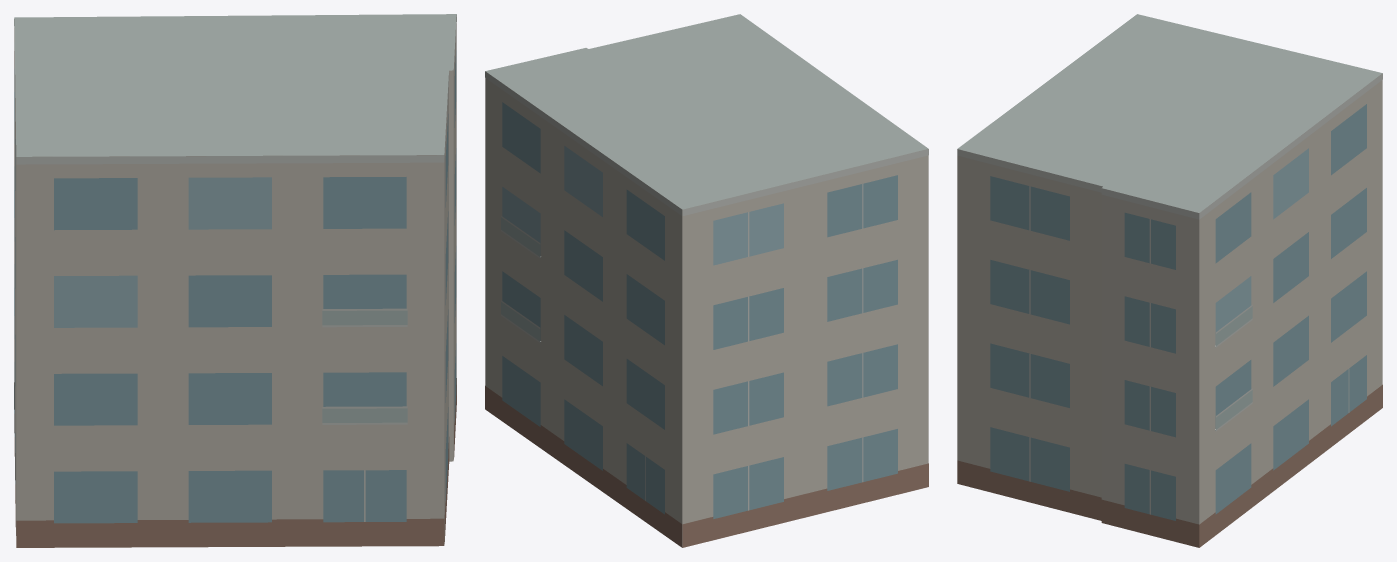
Rendered from survey-upis-32659047.glb.
The picture shows the model from 3 angles, left to right: view 1: azimuth 30°, elevation 25°; view 2: azimuth 150°, elevation 25°; view 3: azimuth 270°, elevation 25°; orthographic projection. The views are drawn at different scales.
Visible parts, largest first — view 1: survey-upis-32659047.tmp; view 2: survey-upis-32659047.tmp; view 3: survey-upis-32659047.tmp.
Part boxes in pixels (left/top/right/bottom): survey-upis-32659047.tmp: left=14, top=14, right=456, bottom=547; survey-upis-32659047.tmp: left=485, top=14, right=928, bottom=547; survey-upis-32659047.tmp: left=957, top=14, right=1382, bottom=547.
Bounding box in the file's own units: 15.86 × 12.43 × 14.33.
